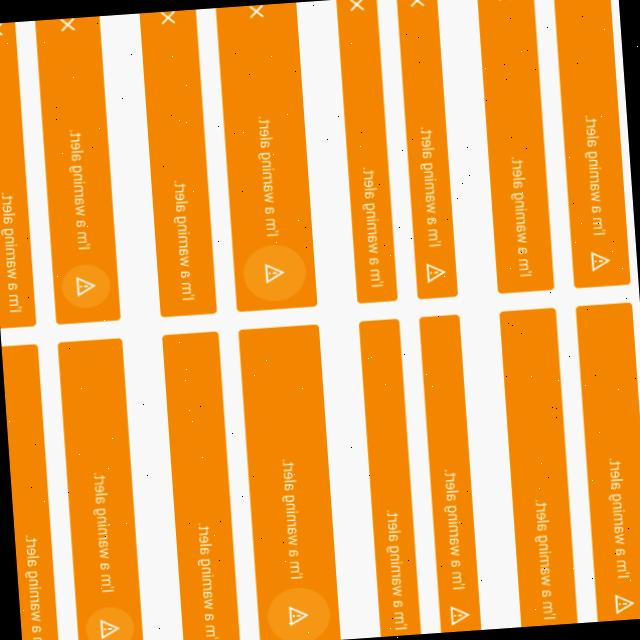QLabel: (530, 494, 559, 622), (604, 453, 633, 578), (356, 164, 385, 288), (252, 112, 281, 236), (169, 176, 198, 300), (276, 456, 304, 580), (64, 126, 92, 250), (439, 466, 467, 589), (506, 154, 534, 277), (382, 506, 409, 630), (88, 470, 115, 592), (193, 519, 220, 640), (416, 123, 442, 248), (581, 112, 607, 235), (20, 532, 48, 640), (0, 190, 23, 313)
VAlert: (238, 323, 341, 640), (216, 1, 318, 313), (34, 14, 121, 324), (58, 336, 145, 640), (500, 308, 579, 626), (161, 330, 241, 640), (138, 8, 218, 317), (477, 0, 556, 293), (554, 0, 631, 288), (575, 301, 640, 621), (418, 312, 482, 632), (359, 318, 422, 636), (335, 0, 398, 303), (395, 0, 458, 299), (1, 342, 60, 640), (0, 20, 36, 328)
